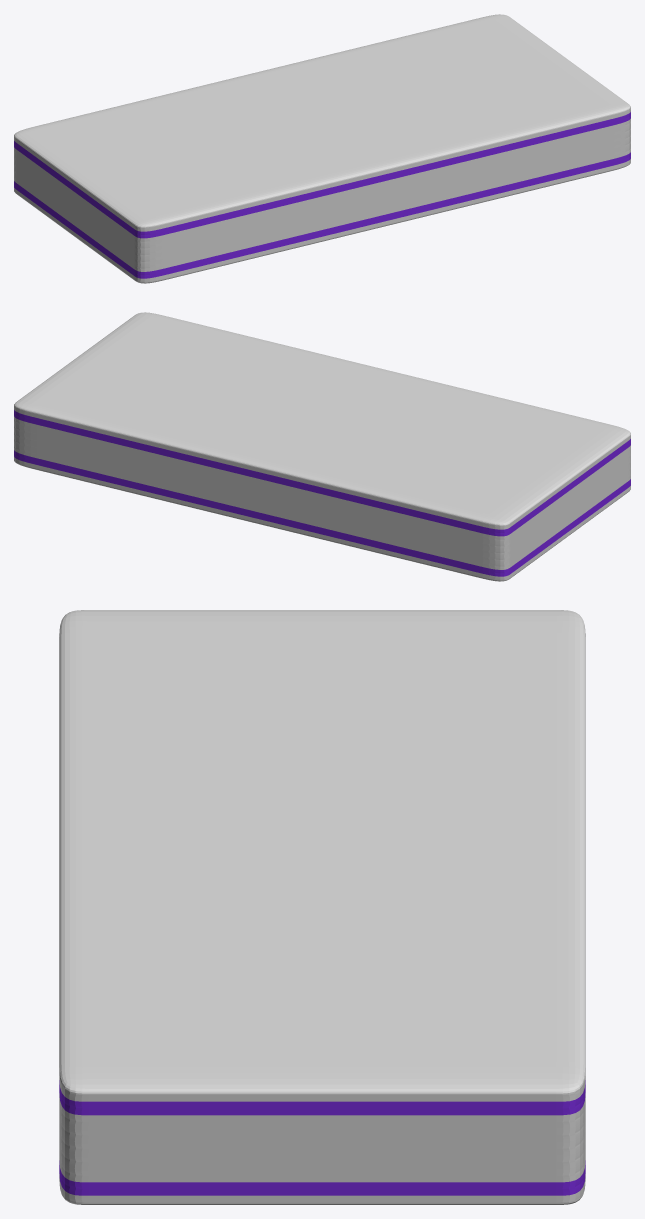
The model's file is mattress.fbx.
3 views of the same model, one above another, from view 1: azimuth 30°, elevation 25°; view 2: azimuth 150°, elevation 25°; view 3: azimuth 270°, elevation 25° (orthographic). The views are drawn at different scales.
Visible parts, largest first — view 1: Cube; view 2: Cube; view 3: Cube.
Part boxes in pixels (x1,y1,x2,y2): Cube: (14,14,630,283); Cube: (14,312,630,581); Cube: (59,610,585,1204).
Bounding box in the file's own units: 813 × 94.89 × 374.
